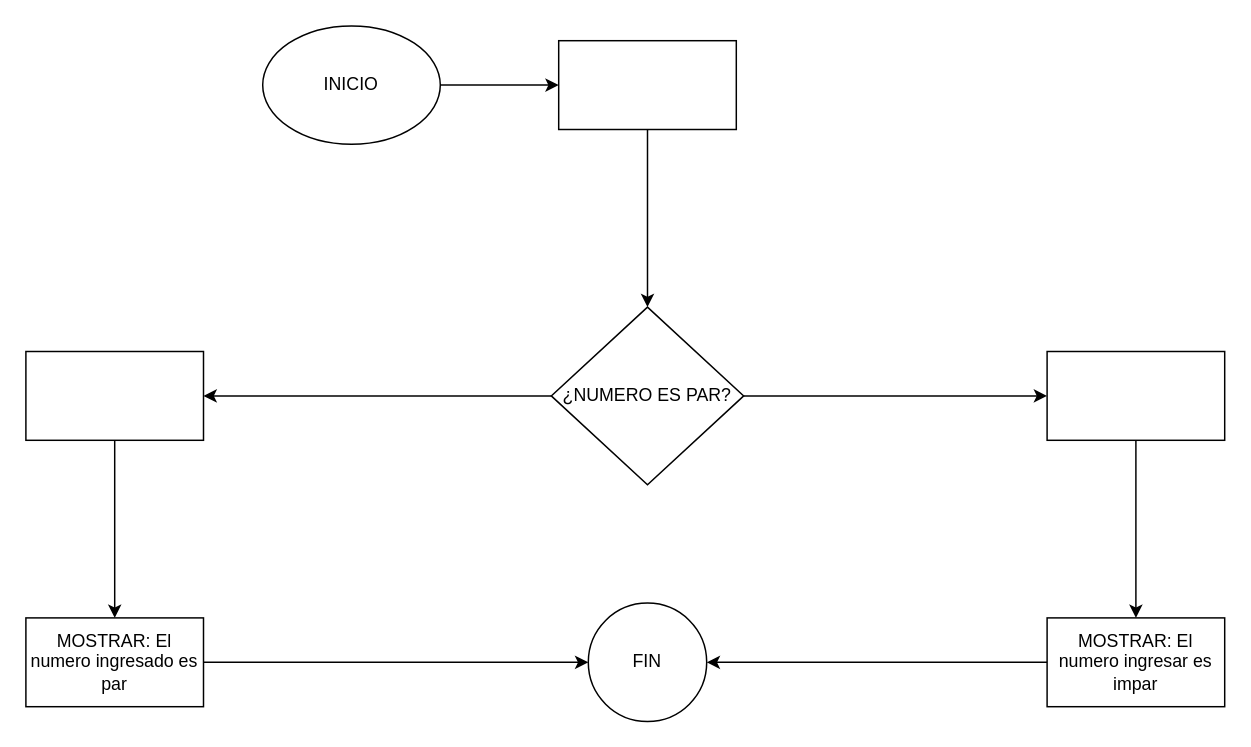
Some shapes in this 1251 by 747 pixel diagram are drawn without their labels. Each missing label, with the centre of its shape:
Ingresar numero: [646,84]
NO: [1135,395]
SI: [114,395]
